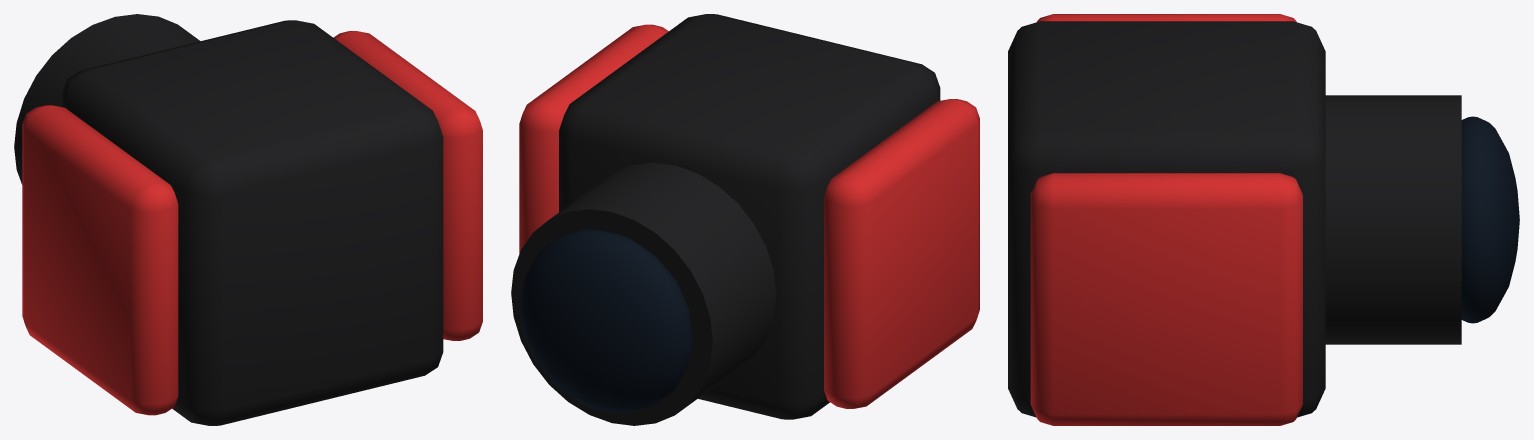
Rendered from cam_nano.glb.
The picture shows the model from 3 angles, left to right: view 1: azimuth 30°, elevation 25°; view 2: azimuth 150°, elevation 25°; view 3: azimuth 270°, elevation 25°; orthographic projection. The views are drawn at different scales.
Visible parts, largest first — view 1: cam_nano_M_CamBody, cam_nano_M_Adapter; view 2: cam_nano_M_CamBody, cam_nano_M_Adapter, cam_nano_M_Glass; view 3: cam_nano_M_CamBody, cam_nano_M_Adapter, cam_nano_M_Glass.
Boxes of the visible parts, x1=… form: cam_nano_M_CamBody: x1=14, y1=14, x2=443, y2=425; cam_nano_M_Adapter: x1=22, y1=31, x2=482, y2=415; cam_nano_M_CamBody: x1=511, y1=14, x2=940, y2=425; cam_nano_M_Adapter: x1=519, y1=24, x2=979, y2=408; cam_nano_M_Glass: x1=519, y1=229, x2=692, y2=413; cam_nano_M_CamBody: x1=1008, y1=21, x2=1461, y2=417; cam_nano_M_Adapter: x1=1030, y1=14, x2=1302, y2=425; cam_nano_M_Glass: x1=1461, y1=116, x2=1519, y2=323.
Bounding box in the file's own units: 0.0191 × 0.014 × 0.0226.
